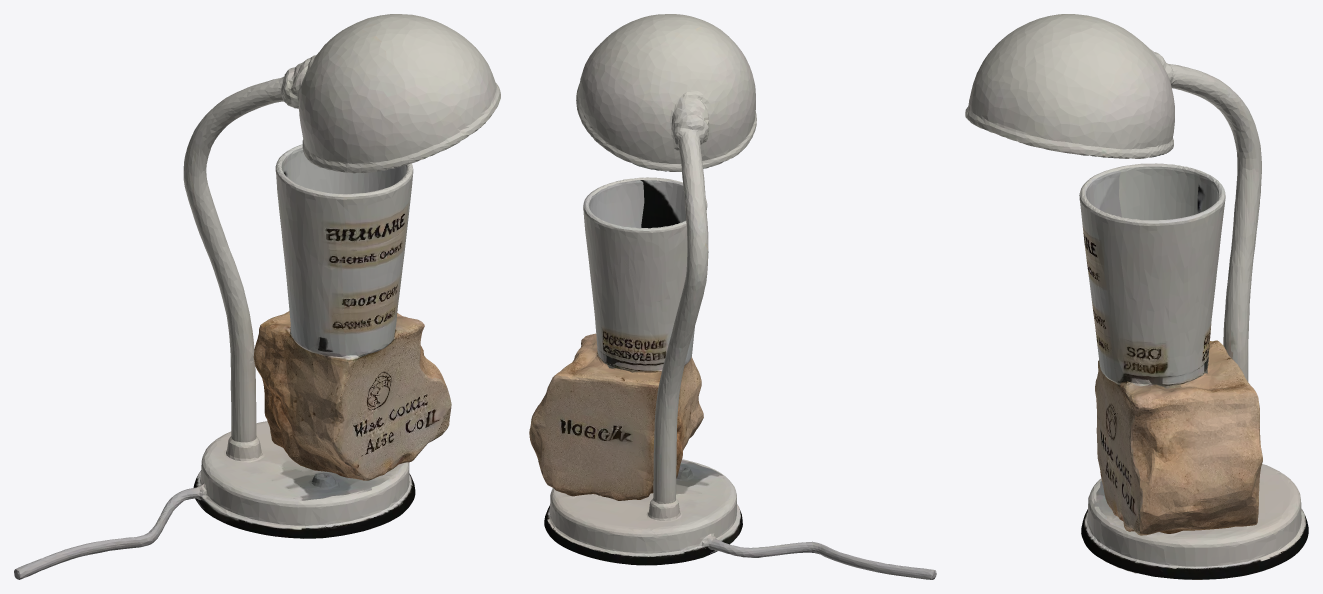
File: chest (277).glb
The picture shows the model from 3 angles, left to right: view 1: azimuth 30°, elevation 25°; view 2: azimuth 150°, elevation 25°; view 3: azimuth 270°, elevation 25°; orthographic projection. The views are drawn at different scales.
Parts seen in each view (by area): view 1: Hy21_Mesh.obj; view 2: Hy21_Mesh.obj; view 3: Hy21_Mesh.obj.
Part boxes in pixels (x1,y1,x2,y2): Hy21_Mesh.obj: (14, 14, 500, 579); Hy21_Mesh.obj: (529, 14, 936, 579); Hy21_Mesh.obj: (965, 14, 1308, 579).
Bounding box in the file's own units: 1.74 × 1.96 × 1.16.
1 material, 1 textured.
